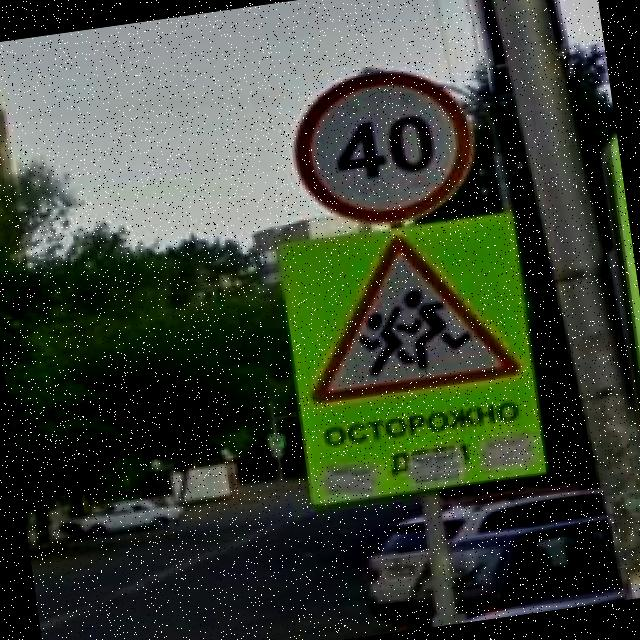Dzieci: (290, 220, 524, 405)
Ograniczenie predkosci do 40: (282, 58, 484, 234)
